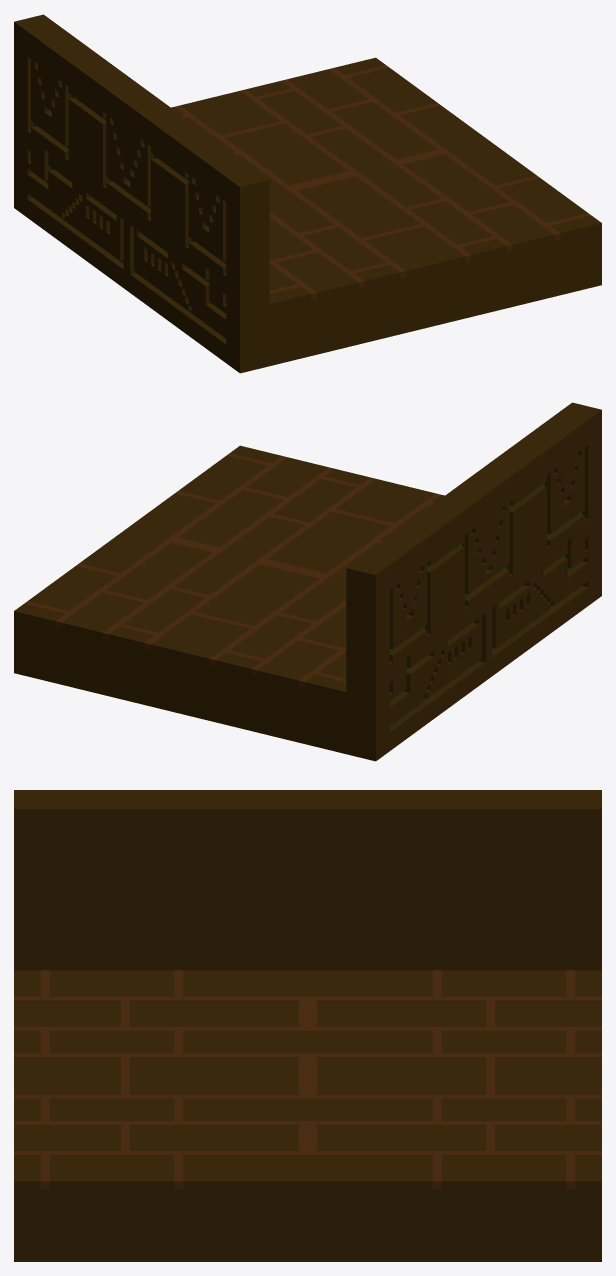
File: Platform.obj
The picture shows the model from 3 angles, top to bottom: view 1: azimuth 30°, elevation 25°; view 2: azimuth 150°, elevation 25°; view 3: azimuth 270°, elevation 25°; orthographic projection. The views are drawn at different scales.
Bounding box in the file's own units: 61 × 30 × 66.
1 material, 1 textured.
